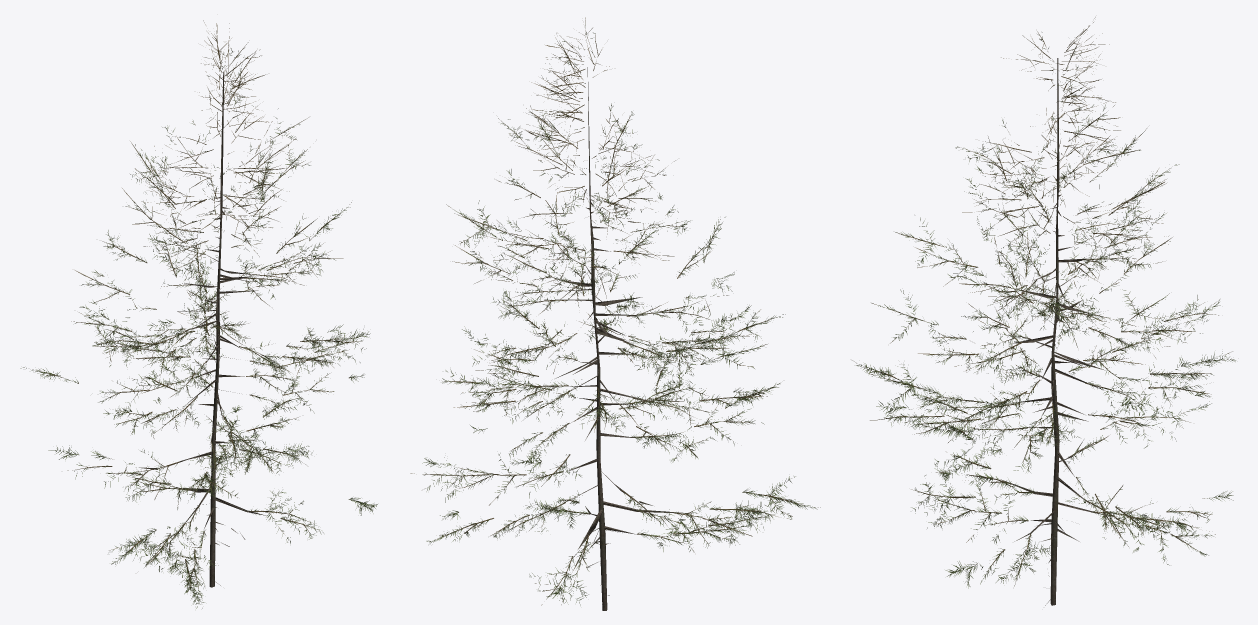
File: fir_a.glb
The picture shows the model from 3 angles, left to right: view 1: azimuth 30°, elevation 25°; view 2: azimuth 150°, elevation 25°; view 3: azimuth 270°, elevation 25°; orthographic projection. The views are drawn at different scales.
Visible parts, largest first — view 1: fir_sapling_medium_a_LOD0; view 2: fir_sapling_medium_a_LOD0; view 3: fir_sapling_medium_a_LOD0.
Part boxes in pixels (bbox=[...]): fir_sapling_medium_a_LOD0: bbox=[20, 20, 377, 608]; fir_sapling_medium_a_LOD0: bbox=[410, 17, 820, 610]; fir_sapling_medium_a_LOD0: bbox=[852, 17, 1235, 605].
Size of the model in its own units: 4.91 by 8.72 by 5.18.
Materials: 3 (3 with a texture image).
